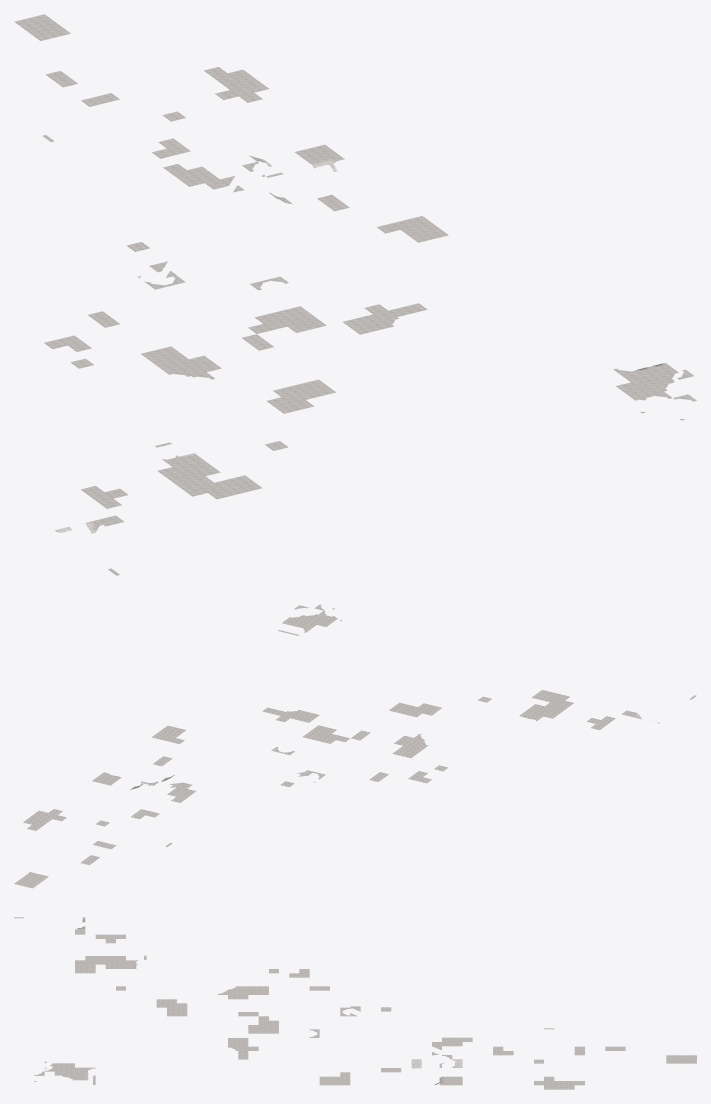
3 views of the same model, one above another, from view 1: azimuth 30°, elevation 25°; view 2: azimuth 150°, elevation 25°; view 3: azimuth 270°, elevation 25° (orthographic). The views are drawn at different scales.
Parts seen in each view (by area): view 1: n0_lr0_agg_merge_mod_dire_path_cracked_000_0.meshset_0; view 2: n0_lr0_agg_merge_mod_dire_path_cracked_000_0.meshset_0; view 3: n0_lr0_agg_merge_mod_dire_path_cracked_000_0.meshset_0.
Boxes of the visible parts, <box> form: n0_lr0_agg_merge_mod_dire_path_cracked_000_0.meshset_0: <box>14,14,696,575</box>; n0_lr0_agg_merge_mod_dire_path_cracked_000_0.meshset_0: <box>14,604,696,888</box>; n0_lr0_agg_merge_mod_dire_path_cracked_000_0.meshset_0: <box>14,917,696,1089</box>.
Bounding box in the file's own units: 260 × 13 × 436.
1 material, 1 textured.
